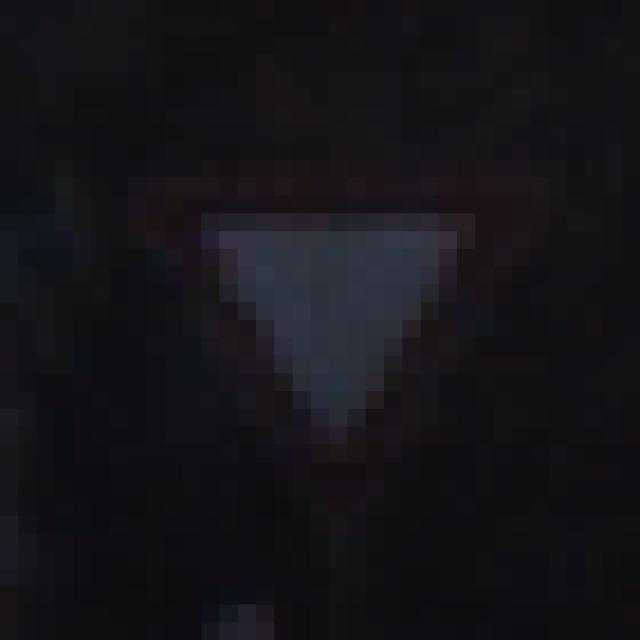Give Way: (93, 108, 550, 552)
